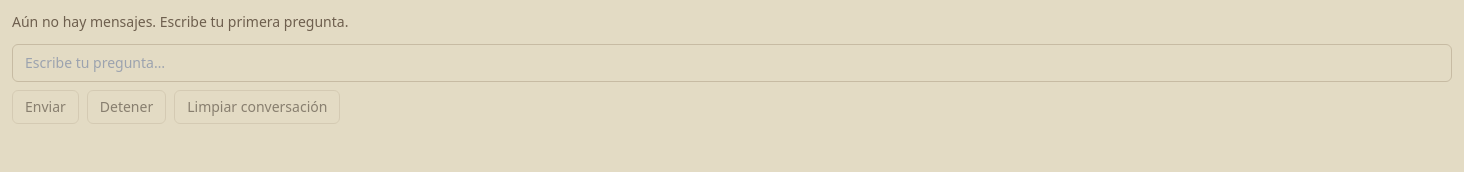
it: CA-21 — render incremental (>=2 actualizaciones visibles antes de completar) › el texto del último mensaje crece con cada chunk NDJSON recibido, antes del done
Type "¿Qué es un grafo en LangGraph?" into the field labelled "Escribe tu pregunta…" at [732, 63], box [12,44,1452,82]
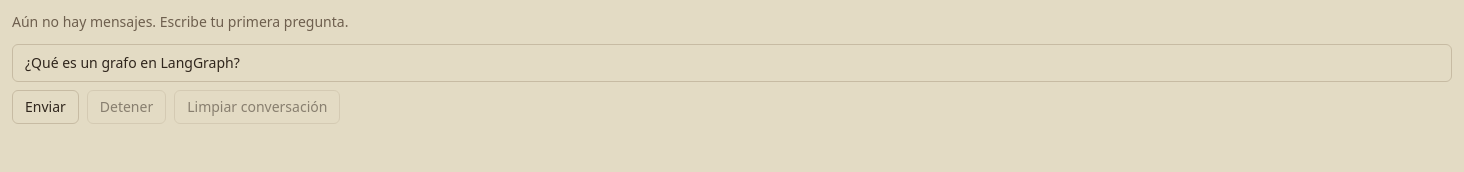
Click the button "Enviar" at [45, 107], box [12,90,79,124]
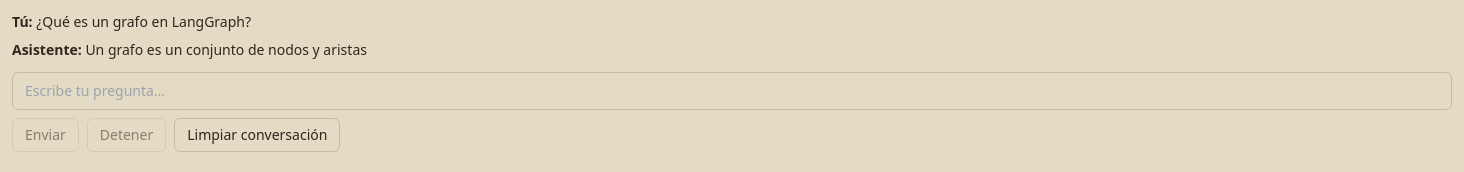
Check: the field labelled "Escribe tu pregunta…" is empty, box [12,72,1452,110]
Check: the element with test id "chat-message-user" shows "¿Qué es un grafo en LangGraph?", box [36,12,251,31]
Check: the element with test id "chat-message-assistant" is shown, box [12,40,367,59]
